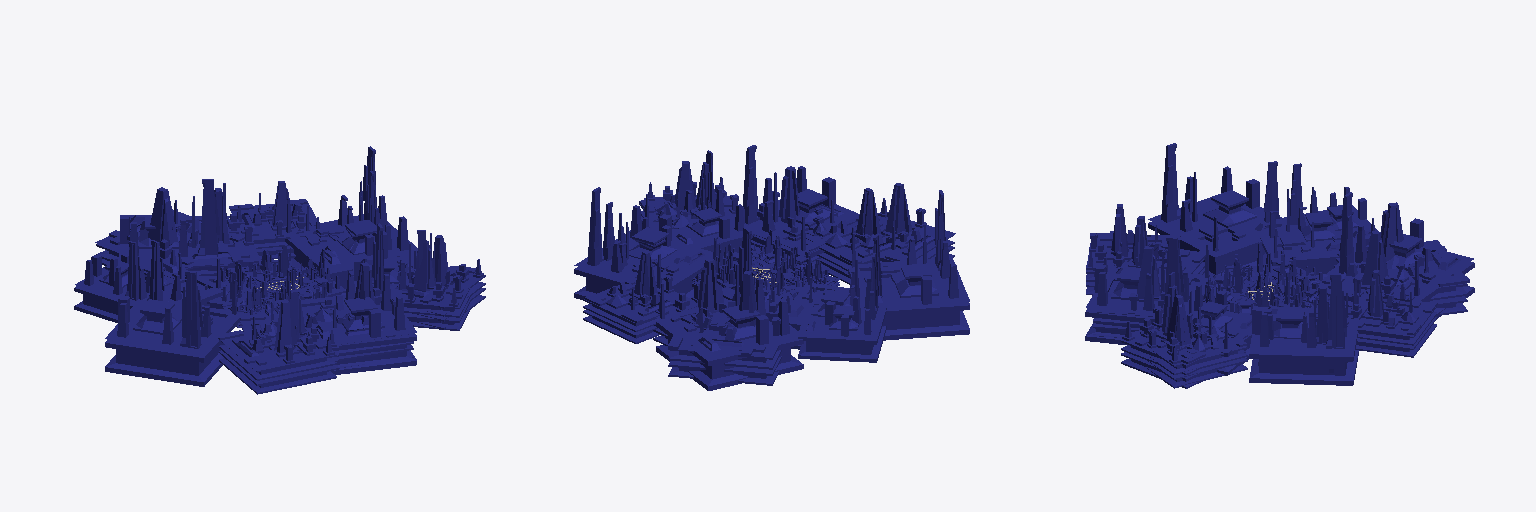
The picture shows the model from 3 angles: view 1: azimuth 30°, elevation 25°; view 2: azimuth 150°, elevation 25°; view 3: azimuth 270°, elevation 25°; orthographic projection.
Visible parts, largest first — view 1: City_Prefab_B.002, City_Prefab_B.008, City_Prefab_A.007, City_Prefab_B.005, City_Prefab_B.003, City_Prefab_B.001, City_Prefab_A.008, City_Prefab_A.005, City_Prefab_B.007, City_Prefab_A.004, City_Prefab_A.001, City_Prefab_A.003 (+7 smaller); view 2: City_Prefab_B.002, City_Prefab_B.003, City_Prefab_B.005, City_Prefab_B.008, City_Prefab_B.001, City_Prefab_A.001, City_Prefab_A.008, City_Prefab_B.006, City_Prefab_A.002, City_Prefab_A.007, City_Prefab_B.007, City_Prefab_B.004 (+5 smaller); view 3: City_Prefab_B.005, City_Prefab_B.002, City_Prefab_B.008, City_Prefab_A.008, City_Prefab_B.003, City_Prefab_B.007, City_Prefab_A.004, City_Prefab_A.001, City_Prefab_A.005, City_Prefab_B.006, City_Prefab_A.006, City_Prefab_A.007 (+6 smaller).
Boxes of the visible parts, <box> form: City_Prefab_B.002: <box>105,270,240,386</box>; City_Prefab_B.008: <box>292,223,416,374</box>; City_Prefab_A.007: <box>217,300,336,394</box>; City_Prefab_B.005: <box>283,146,417,294</box>; City_Prefab_B.003: <box>119,179,229,282</box>; City_Prefab_B.001: <box>74,241,184,322</box>; City_Prefab_A.008: <box>229,181,319,259</box>; City_Prefab_A.005: <box>390,241,475,330</box>; City_Prefab_B.007: <box>108,240,222,306</box>; City_Prefab_A.004: <box>391,235,485,329</box>; City_Prefab_A.001: <box>95,187,244,269</box>; City_Prefab_A.003: <box>302,262,414,368</box>; City_Prefab_B.002: <box>848,190,969,340</box>; City_Prefab_B.003: <box>656,227,803,390</box>; City_Prefab_B.005: <box>574,187,712,299</box>; City_Prefab_B.008: <box>743,145,859,274</box>; City_Prefab_B.001: <box>798,253,886,362</box>; City_Prefab_A.001: <box>668,271,790,385</box>; City_Prefab_A.008: <box>583,251,694,343</box>; City_Prefab_B.006: <box>642,150,754,256</box>; City_Prefab_A.002: <box>806,188,920,284</box>; City_Prefab_A.007: <box>844,183,955,261</box>; City_Prefab_B.007: <box>788,234,892,349</box>; City_Prefab_B.004: <box>600,202,702,282</box>; City_Prefab_B.005: <box>1249,273,1359,385</box>; City_Prefab_B.002: <box>1148,143,1281,275</box>; City_Prefab_B.008: <box>1085,237,1212,344</box>; City_Prefab_A.008: <box>1347,270,1437,357</box>; City_Prefab_B.003: <box>1326,192,1474,318</box>; City_Prefab_B.007: <box>1255,161,1356,278</box>; City_Prefab_A.004: <box>1131,295,1247,388</box>; City_Prefab_A.001: <box>1334,202,1469,315</box>; City_Prefab_A.005: <box>1121,285,1247,388</box>; City_Prefab_B.006: <box>1157,272,1251,375</box>; City_Prefab_A.006: <box>1317,231,1422,308</box>; City_Prefab_A.007: <box>1086,204,1180,295</box>.
Size of the model in its own units: 187 by 55.39 by 178.
1 materials, 1 textured.